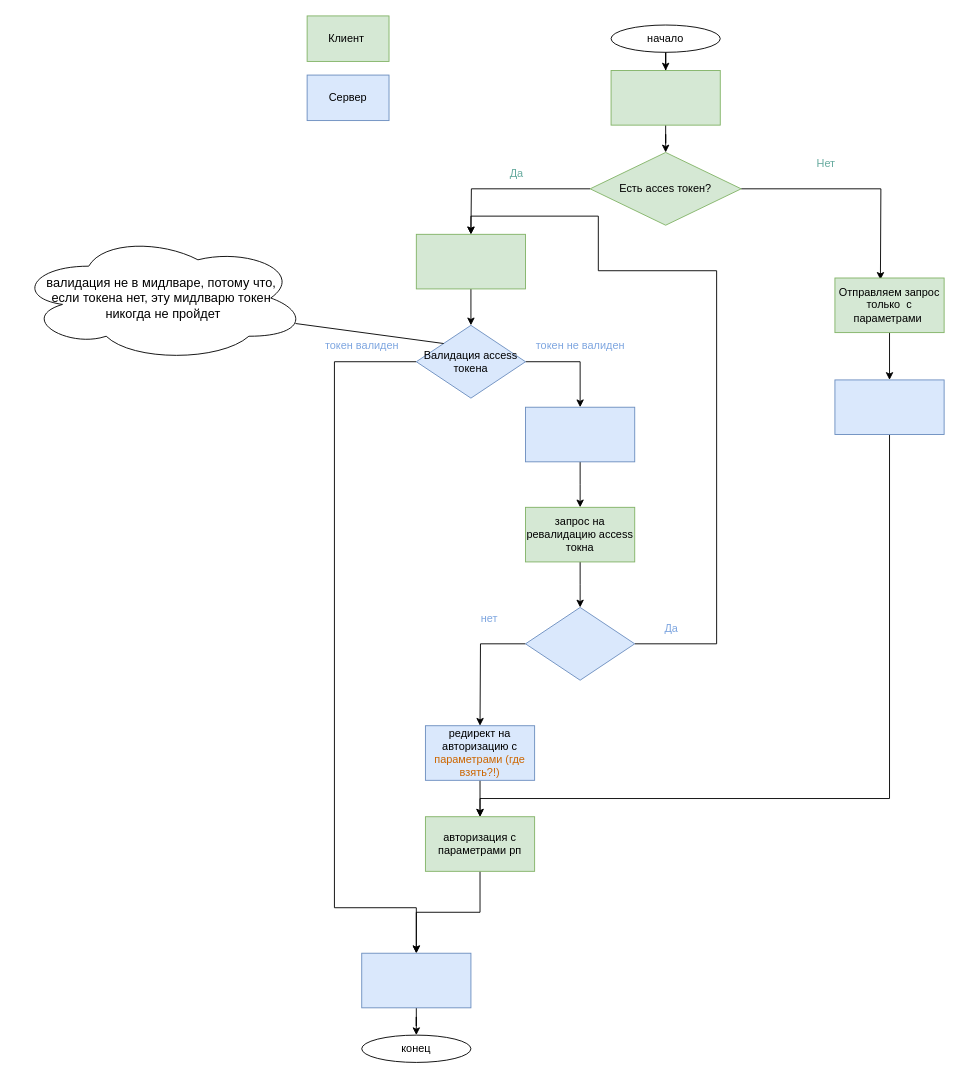
Image size: 960x1078. Some labels were removed from this diagram. Here are the shapes that lost their labels. From the top down, the centre of each, then its label:
the point at 665,97: нажал на ссылку с параметрами рп
the point at 470,261: Отправляем запрос с параметрами и access токеном
the point at 889,407: редирект на авторизацию с параметрами
the point at 580,434: отправляет ошибку
the point at 580,643: успешная ревалидация
the point at 416,980: Прикрепление пользователя к рп
